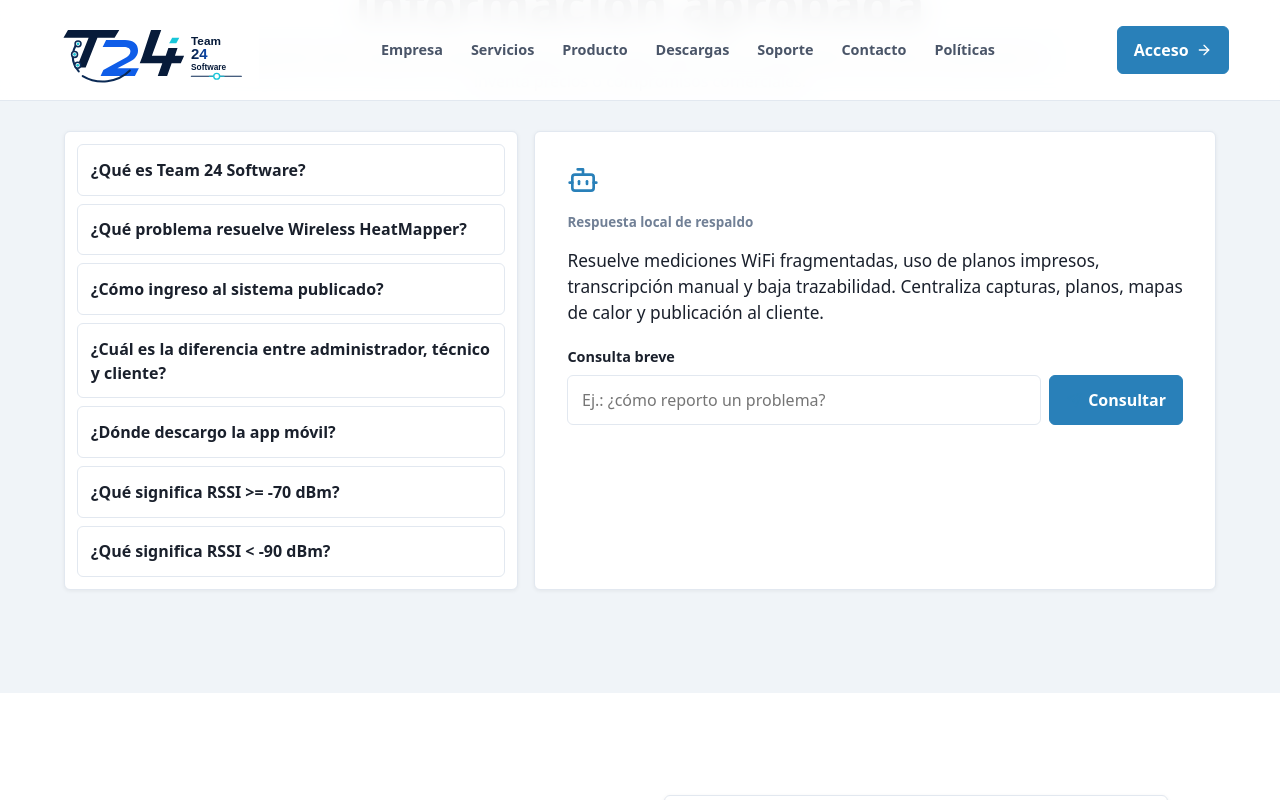
Scenario: SitioEmpresa › usa la respuesta local aprobada cuando Azure no responde
(page scrolled)
Type "¿Qué significa RSSI < -90 dBm?" into the field labelled "Consulta breve" at (804, 400), box [567,375,1041,425]
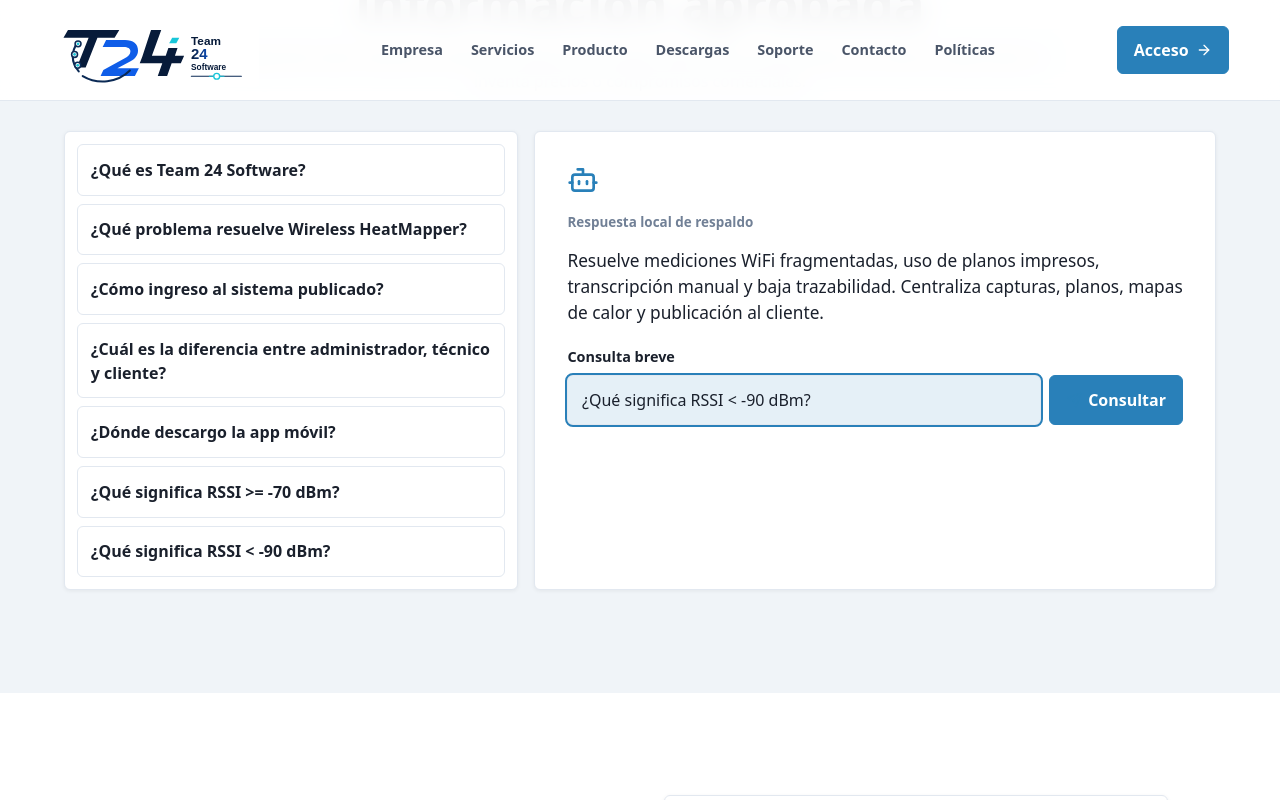
Click the button "Consultar" at (1116, 400), box [1049,375,1183,425]
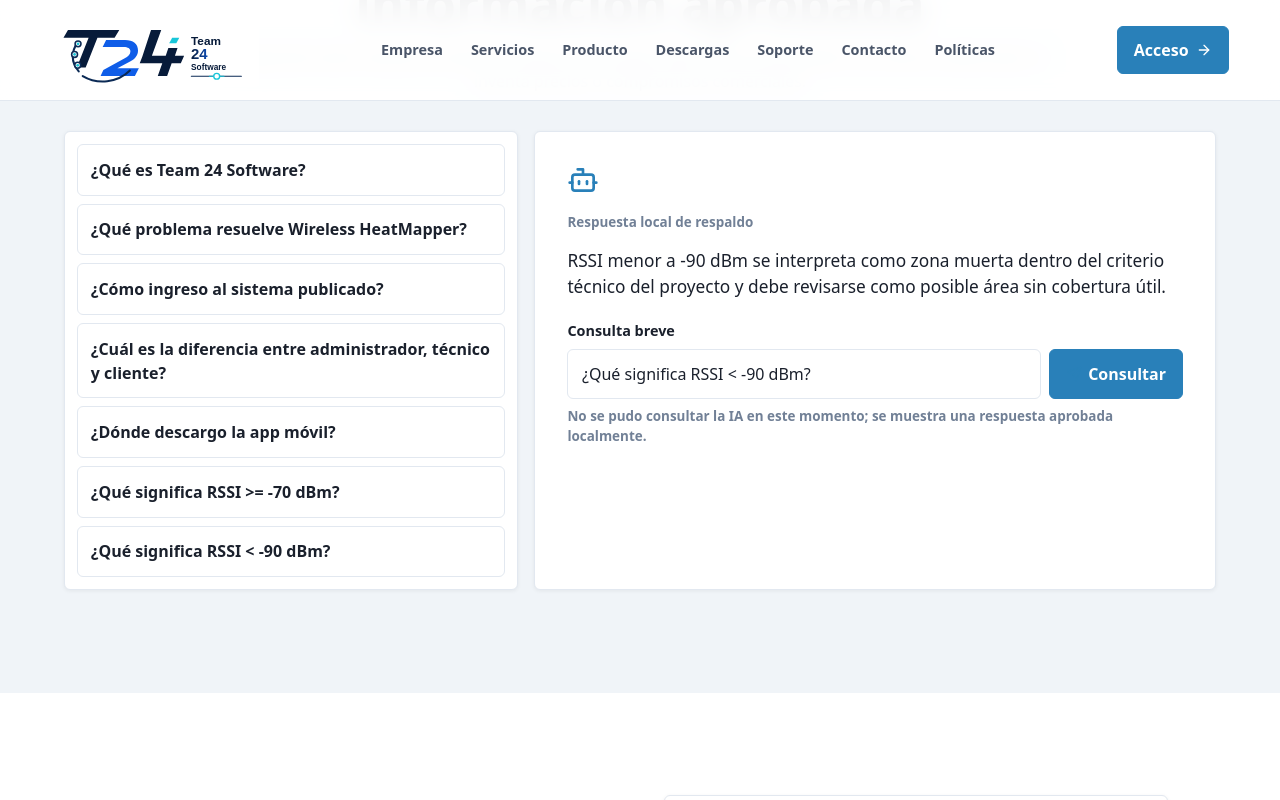
Expected: the text "RSSI menor a -90 dBm se interpreta como zona muerta" is shown, [567,249,1166,298]
Expected: the text "No se pudo consultar la IA" is shown, [567,407,1113,445]
